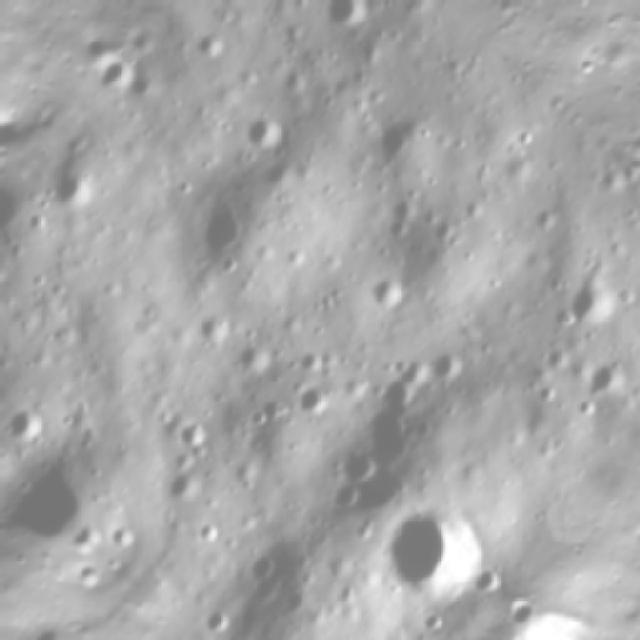crater: (360, 479, 509, 628), (158, 171, 274, 289), (16, 438, 110, 530), (551, 264, 631, 344), (34, 154, 100, 220), (364, 362, 431, 427), (568, 352, 632, 417), (230, 104, 295, 168), (0, 391, 54, 458), (351, 268, 411, 328), (231, 539, 289, 599), (154, 458, 212, 517), (361, 114, 419, 172), (285, 372, 338, 426), (336, 439, 389, 492), (317, 474, 369, 526), (100, 510, 152, 561), (312, 0, 378, 40), (189, 594, 243, 640), (168, 408, 217, 458), (419, 344, 468, 393), (184, 23, 233, 72), (465, 563, 507, 606), (186, 512, 225, 551), (409, 604, 449, 640), (74, 516, 108, 549)
